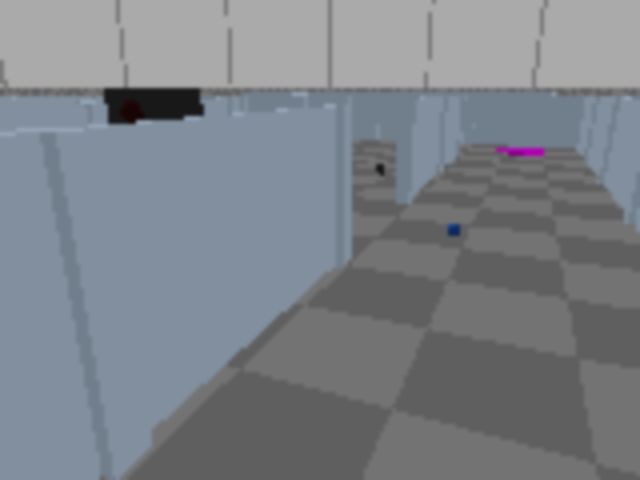goal_zone: (496, 148, 544, 156)
puck: (444, 221, 462, 238)
